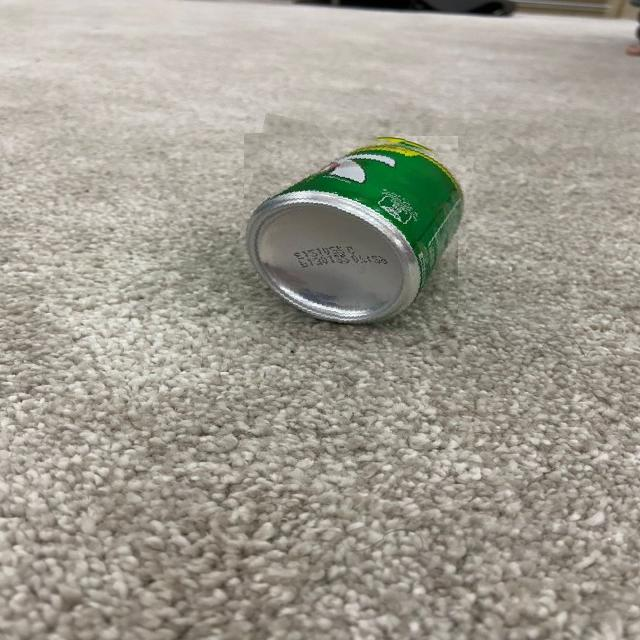recyclable: (236, 123, 466, 331)
